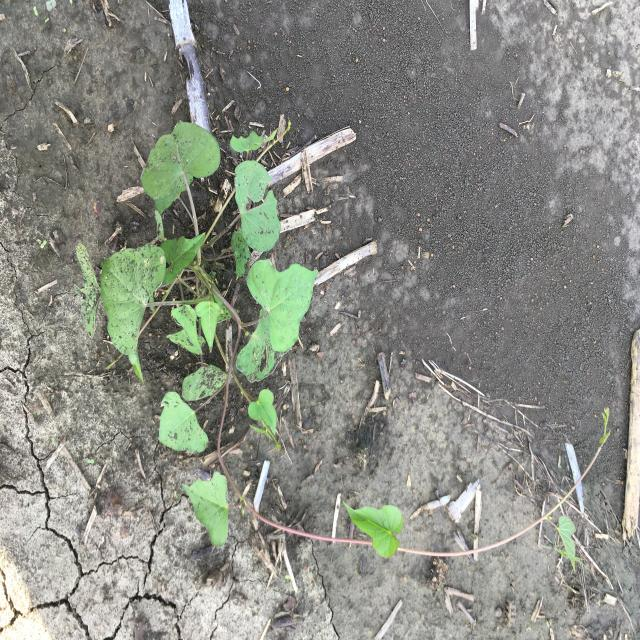MorningGlory: (72, 116, 614, 577)
